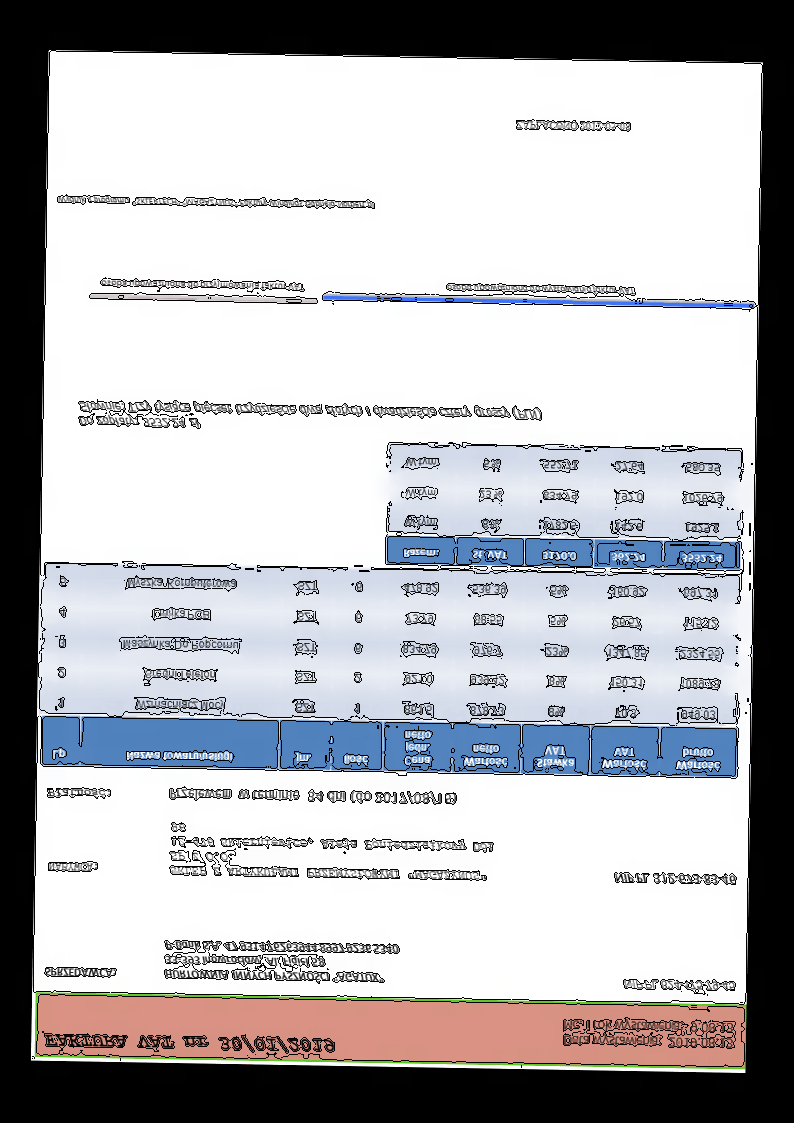Table: (40, 561, 742, 779), (385, 443, 744, 572), (76, 397, 543, 438)
TextBox: (166, 820, 497, 884), (162, 938, 400, 985), (42, 1029, 336, 1057), (55, 192, 376, 212), (167, 786, 458, 807), (560, 1018, 736, 1052), (98, 277, 306, 293), (444, 281, 637, 297), (611, 870, 738, 887), (621, 976, 736, 994), (514, 119, 632, 134), (42, 964, 117, 980), (45, 785, 112, 802), (45, 861, 100, 875)
